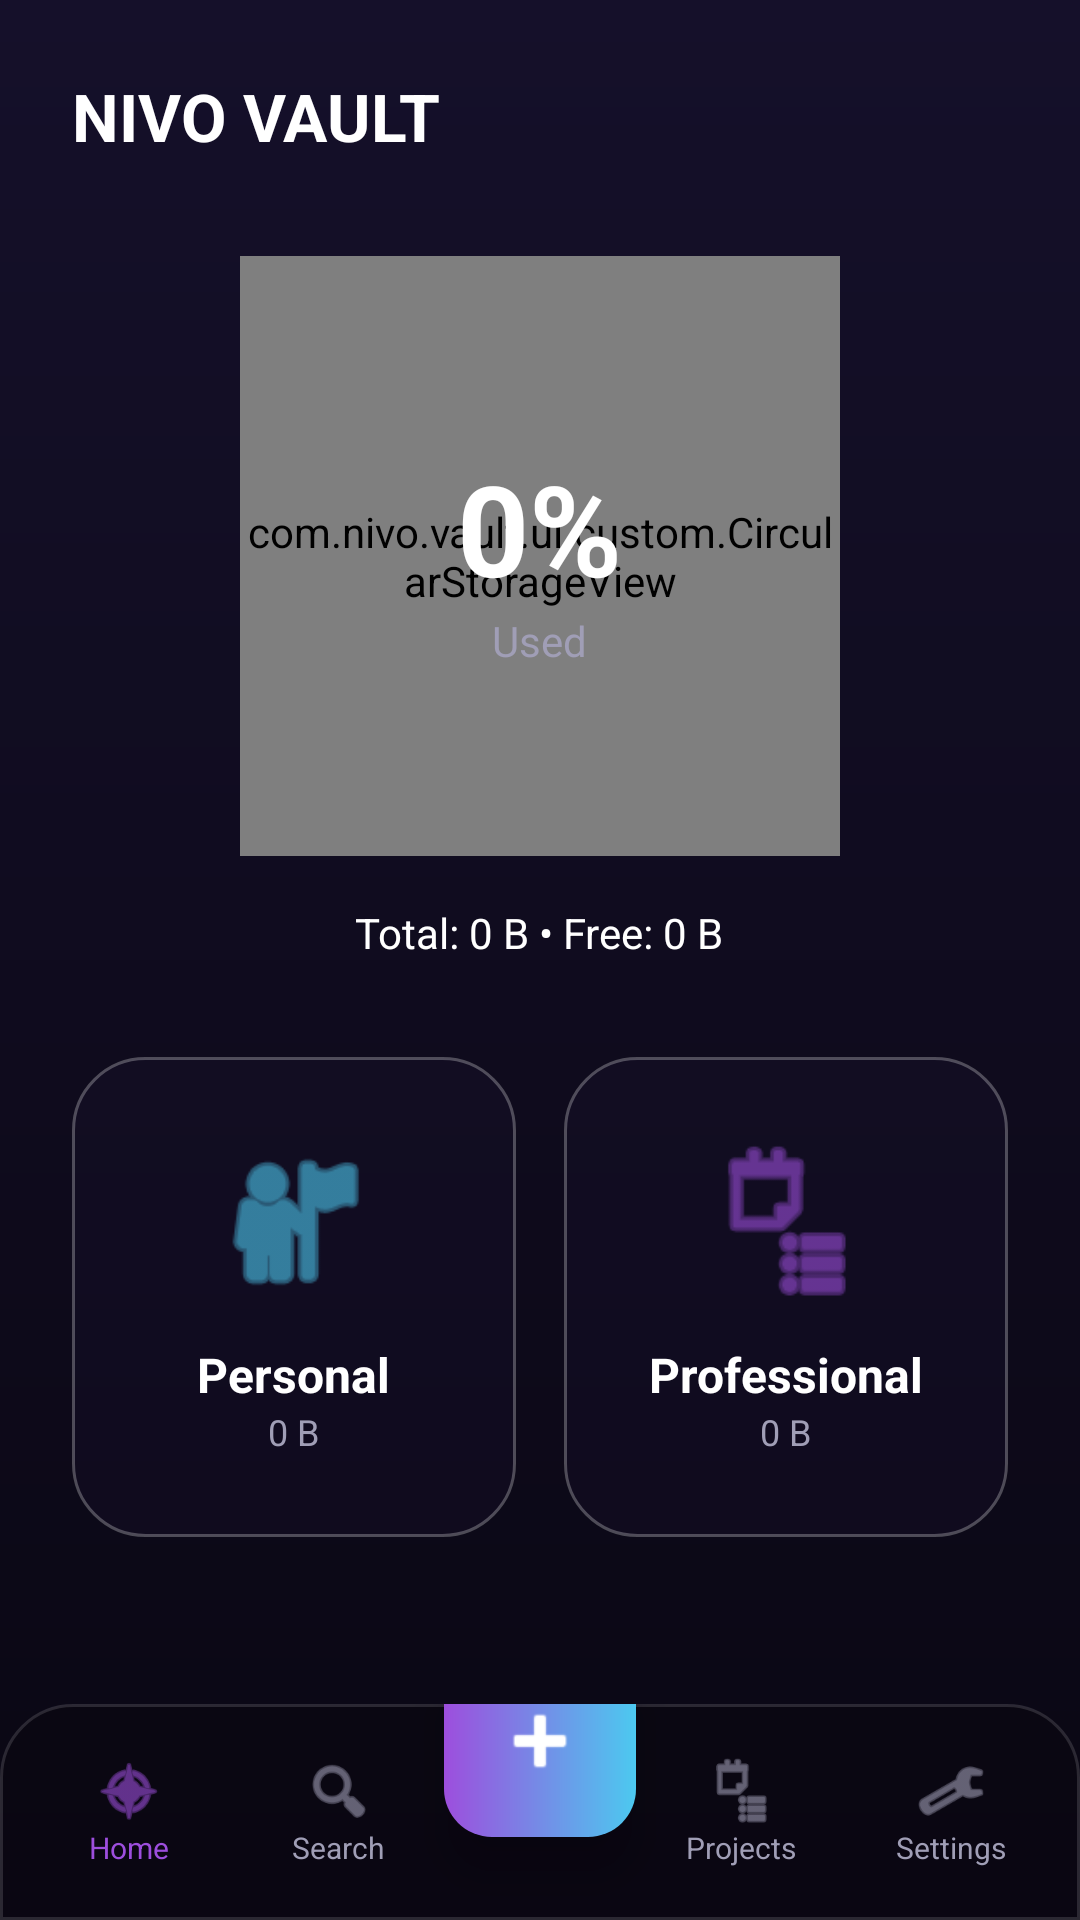

Icon click points for this 1080 × 1920 phone screenshot, format point (x, y):
agenda: point (787, 1221), point (741, 1791)
compass: point (128, 1791)
manage: point (951, 1791)
myplaces: point (296, 1222)
